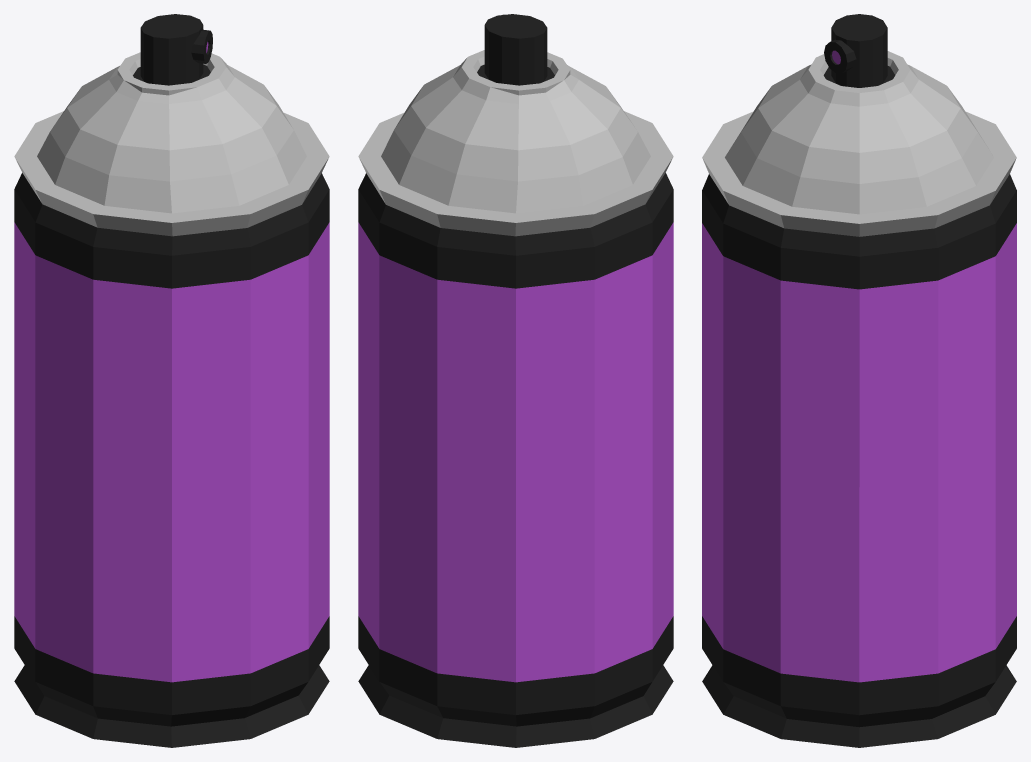
Rendered from can.fbx.
3 renders of one model, left to right at view 1: azimuth 30°, elevation 25°; view 2: azimuth 150°, elevation 25°; view 3: azimuth 270°, elevation 25°, orthographic.
Parts seen in each view (by area): view 1: Cylinder; view 2: Cylinder; view 3: Cylinder.
Boxes of the visible parts, bbox=[...] form: Cylinder: bbox=[14, 14, 329, 747]; Cylinder: bbox=[358, 14, 673, 747]; Cylinder: bbox=[702, 14, 1016, 747].
Size of the model in its own units: 143 by 329 by 143.
